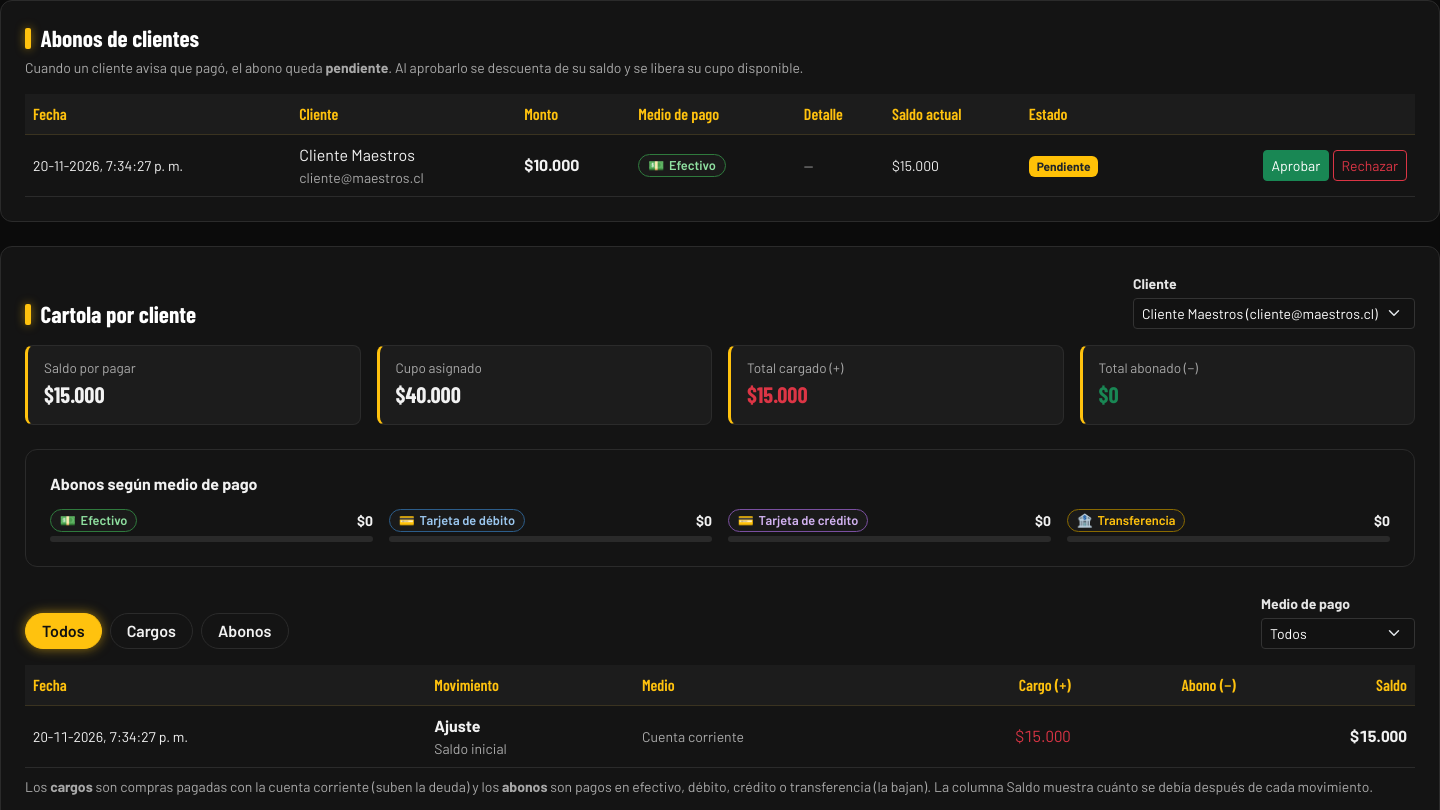
Test: Componente AdminAbonos (el admin ve y aprueba los abonos del cliente) › al rechazar el saldo queda igual
Click the button with class "btn-rechazar".
click(1370, 165)  # box [1332,150,1407,181]
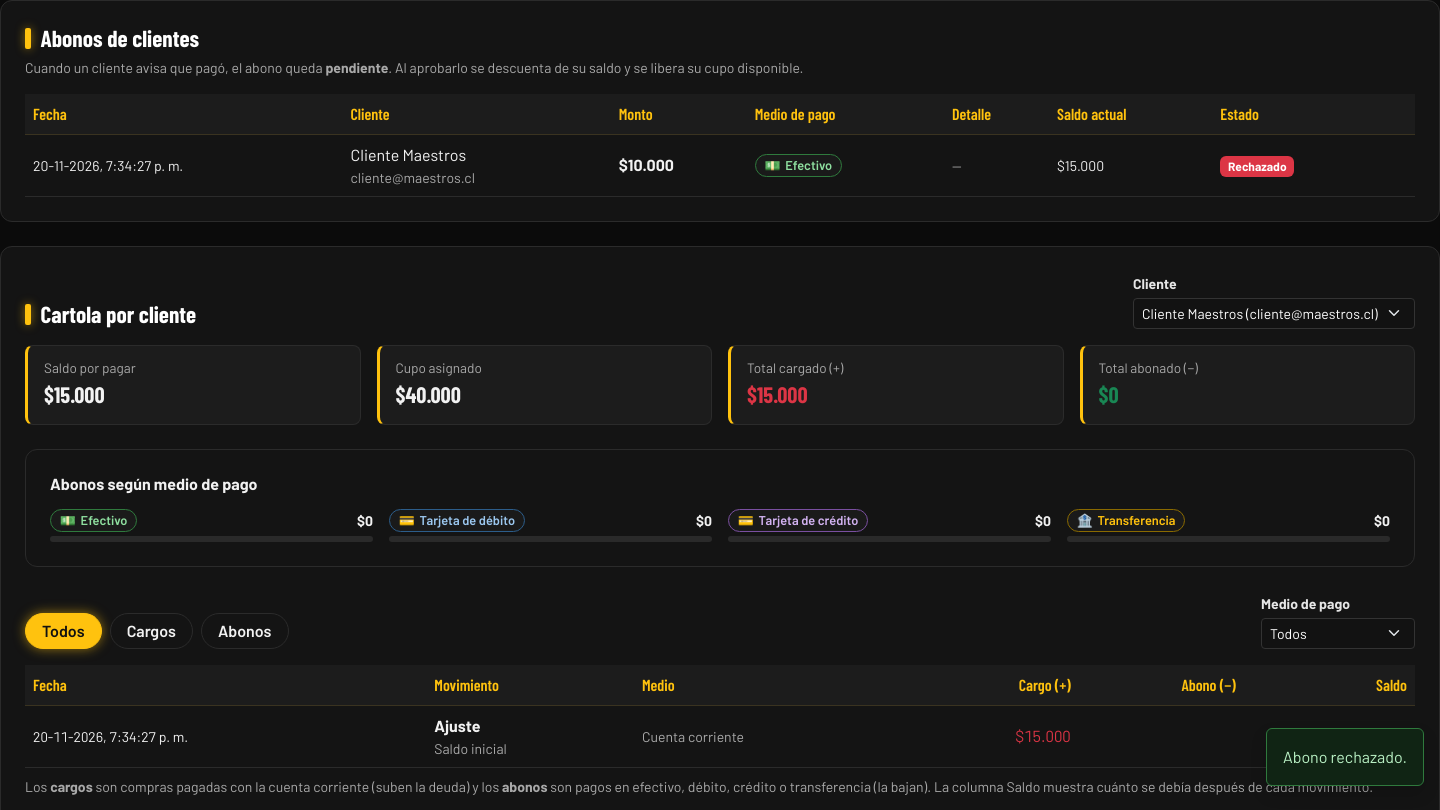
Check: the text with class "badge" reads "Rechazado", box [1228,159,1286,173]
